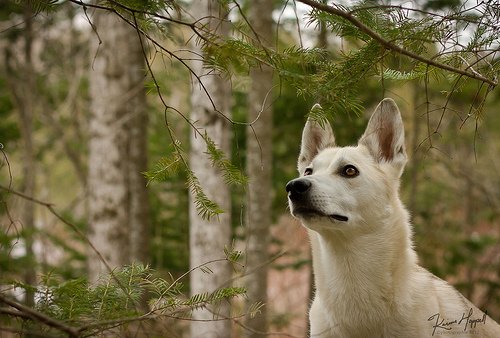dog: (286, 98, 499, 337)
